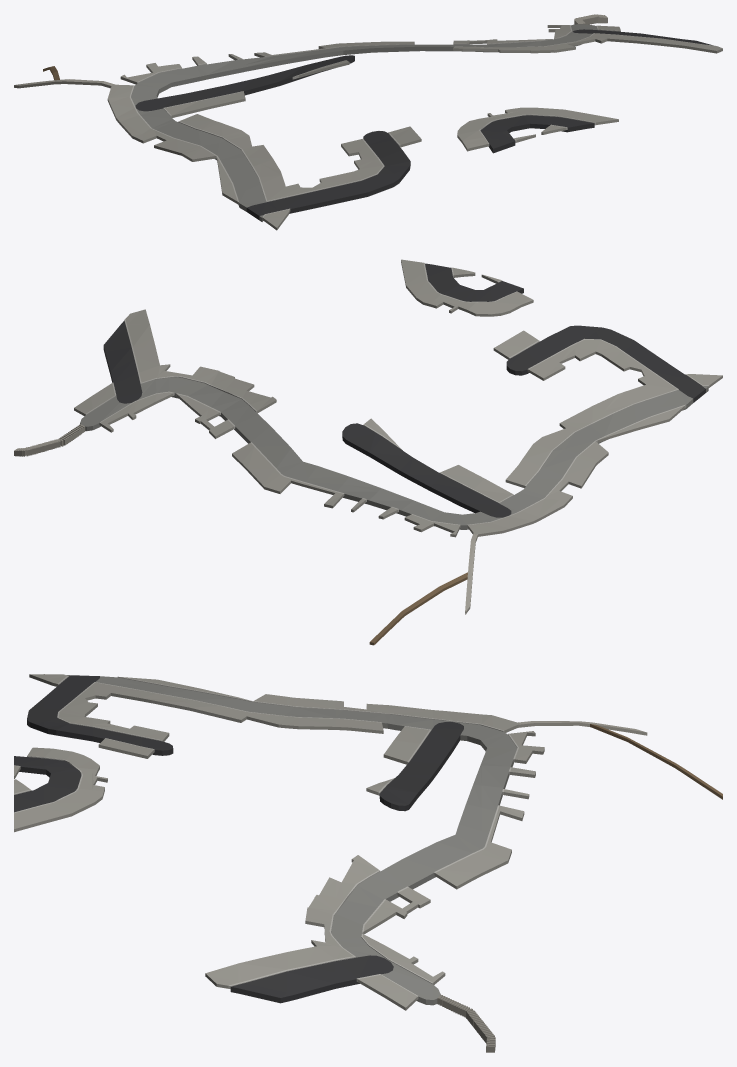
3 renders of one model, top to bottom at view 1: azimuth 30°, elevation 25°; view 2: azimuth 150°, elevation 25°; view 3: azimuth 270°, elevation 25°, orthographic. The views are drawn at different scales.
Size of the model in its own units: 147 by 29.85 by 146.
